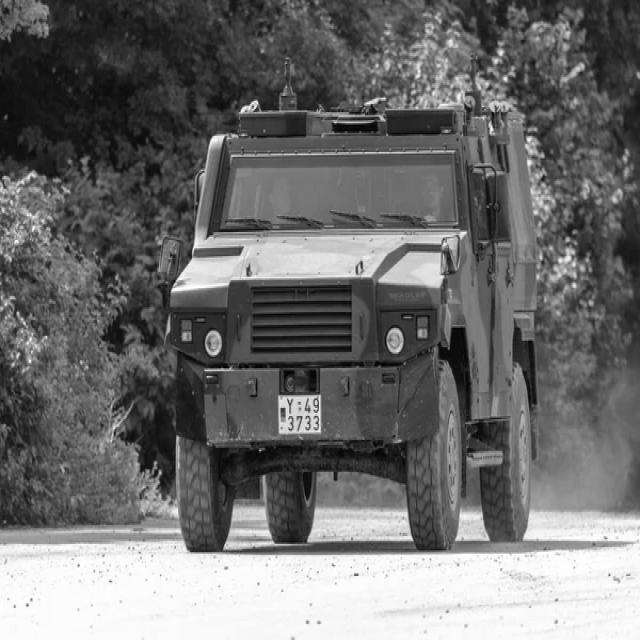Car: (159, 56, 539, 553)
